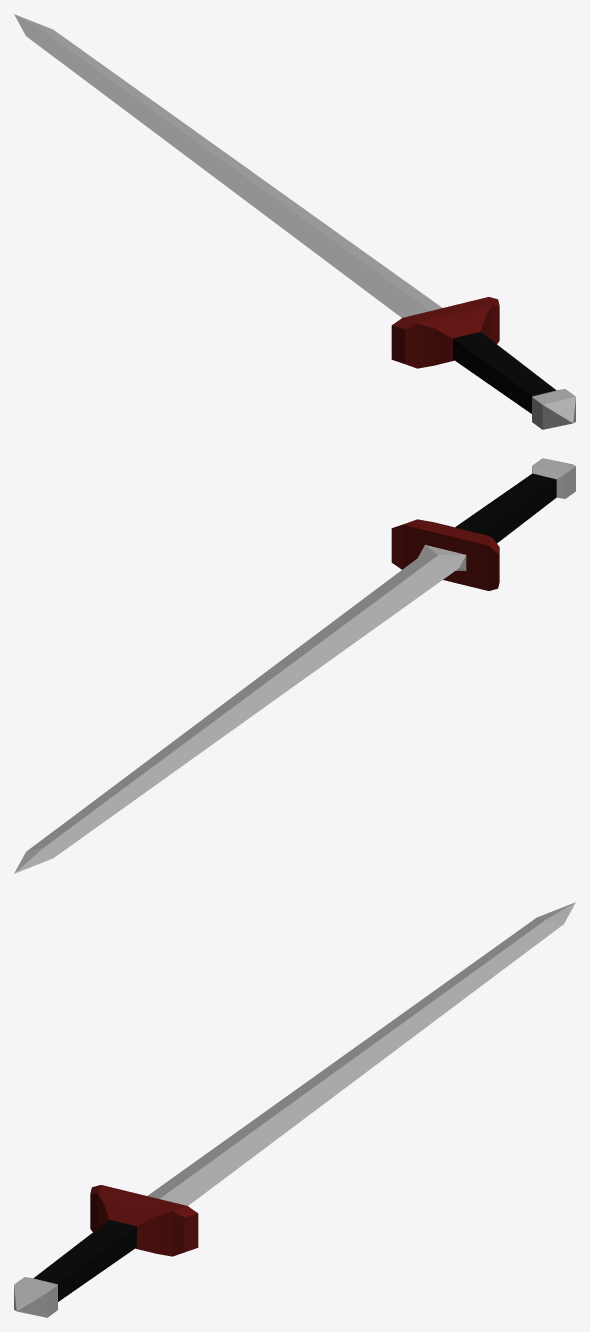
Rendered from Jian - Textured Low Poly Asian Weapon Pack by Kickin It Studios.fbx.
The picture shows the model from 3 angles, top to bottom: view 1: azimuth 30°, elevation 25°; view 2: azimuth 150°, elevation 25°; view 3: azimuth 330°, elevation 25°; orthographic projection.
Parts seen in each view (by area): view 1: Jian; view 2: Jian; view 3: Jian.
Boxes of the visible parts, left/top/right/bottom form: Jian: left=14, top=14, right=575, bottom=429; Jian: left=14, top=458, right=575, bottom=873; Jian: left=14, top=902, right=575, bottom=1317.
Size of the model in its own units: 84.3 by 34.38 by 767.
